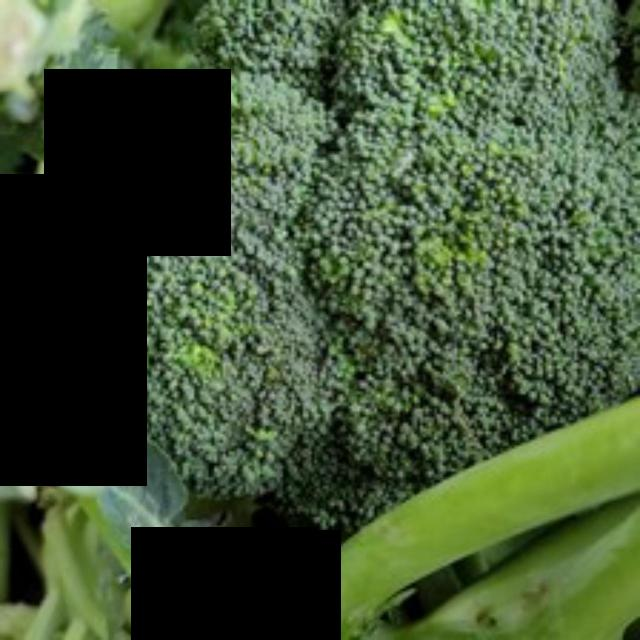broccoli: (98, 0, 640, 520)
